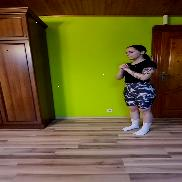lunges: (105, 43, 167, 136)
